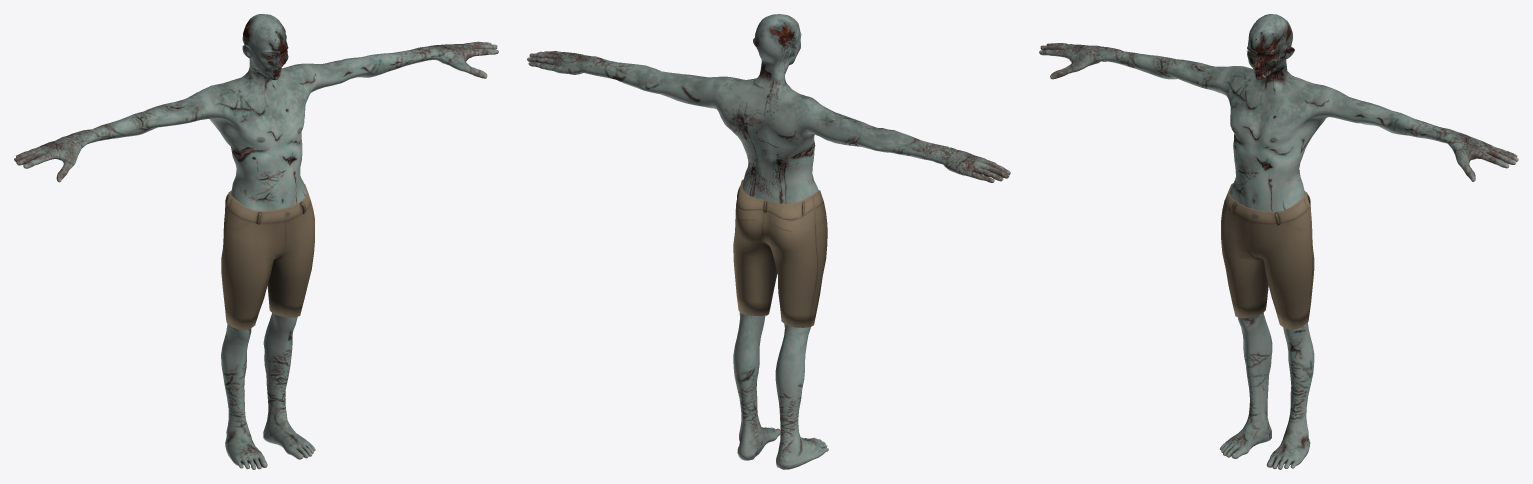
File: zombie.obj
3 views of the same model, side by side, from view 1: azimuth 30°, elevation 25°; view 2: azimuth 150°, elevation 25°; view 3: azimuth 330°, elevation 25° (orthographic).
Parts seen in each view (by area): view 1: Body, Bottoms; view 2: Body, Bottoms; view 3: Body, Bottoms.
Boxes of the visible parts, x1,y1,x2,y2 form: Body: [14, 14, 498, 469]; Bottoms: [221, 184, 314, 330]; Body: [527, 14, 1010, 469]; Bottoms: [733, 179, 827, 327]; Body: [1039, 14, 1518, 469]; Bottoms: [1221, 183, 1314, 329].
Bounding box in the file's own units: 201 × 176 × 29.21.
